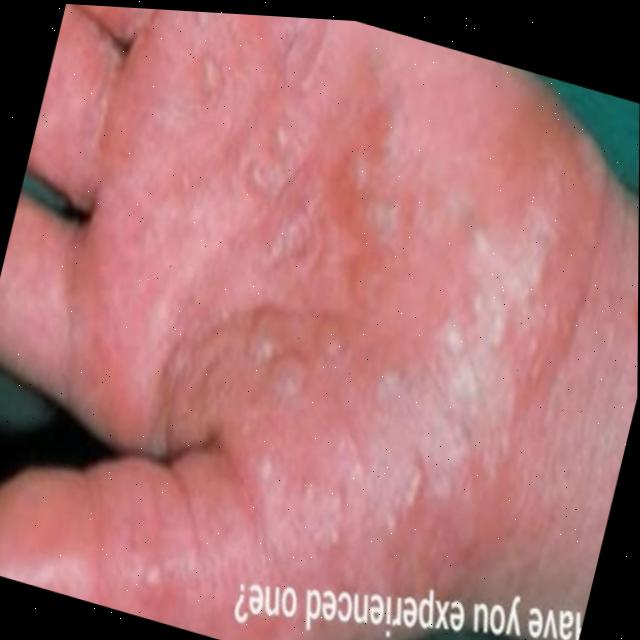Eczema: (58, 29, 617, 581)
